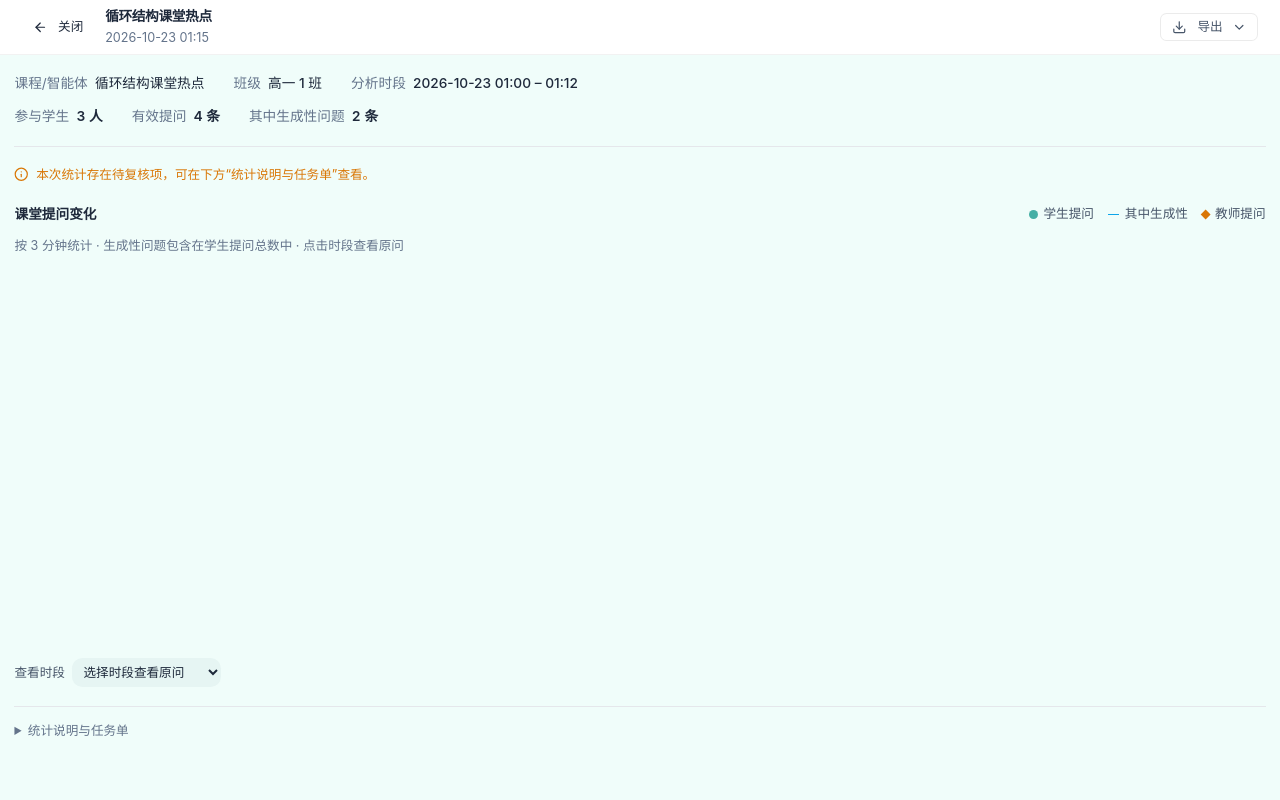
Test: HotAnalysisResultPage › 审计异常简短提示，详情折叠且不替后端修正统计
Expected: the message shows "本次统计存在待复核项", [36,167,375,182]
Click the heading "统计说明与任务单" at (78, 730), box [28,723,129,738]
(page scrolled)
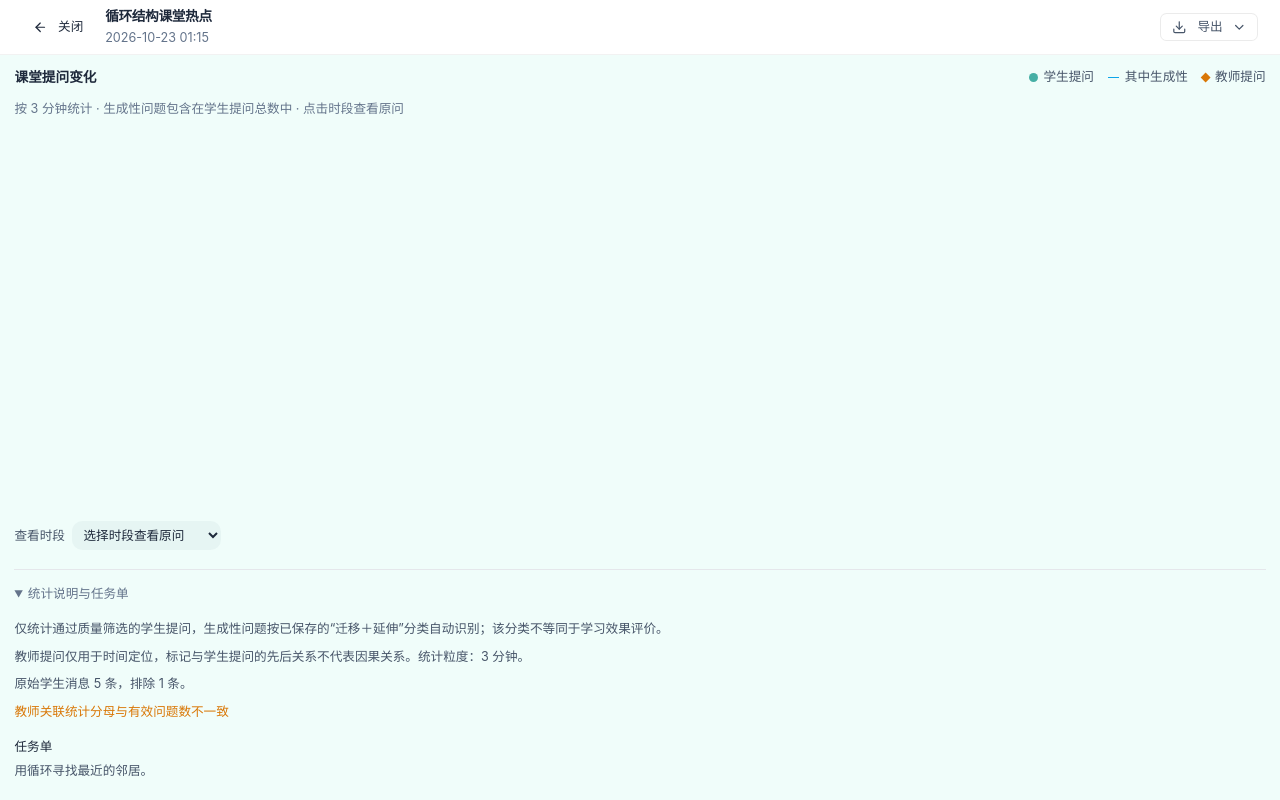
Result: the text "教师关联统计分母与有效问题数不一致" is shown at [14,704,229,719]
Result: the text "教师提问仅用于时间定位，标记与学生提问的先后关系不代表因果关系。统计粒度：3 分钟。" is shown at [14,648,530,664]
